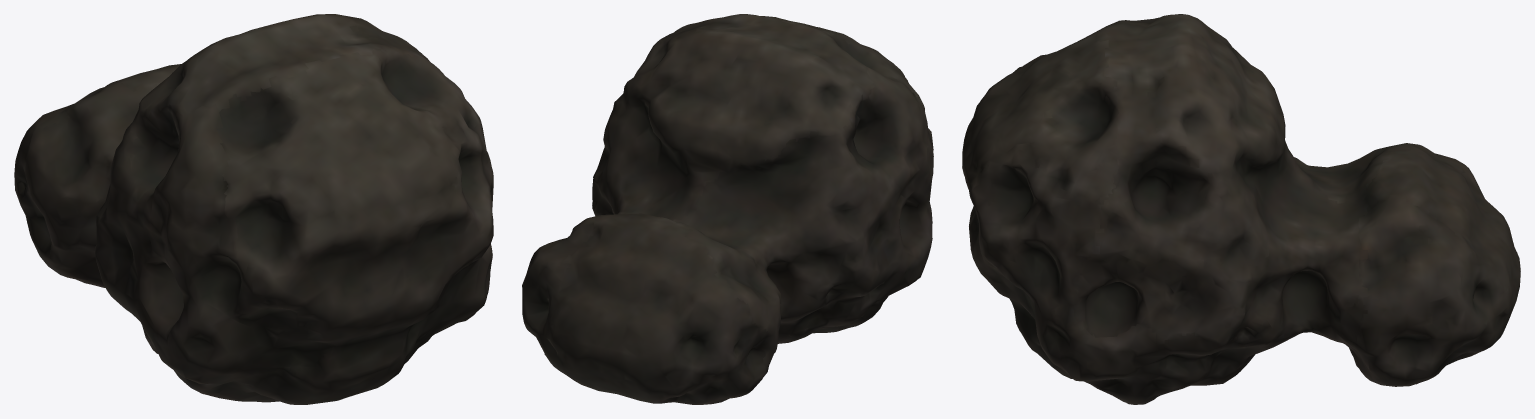
File: asteroid_rare_1_lod2.glb
The picture shows the model from 3 angles, left to right: view 1: azimuth 30°, elevation 25°; view 2: azimuth 150°, elevation 25°; view 3: azimuth 270°, elevation 25°; orthographic projection. The views are drawn at different scales.
Visible parts, largest first — view 1: model; view 2: model; view 3: model.
Boxes of the visible parts, <box> form: model: <box>14,14,493,404</box>; model: <box>522,14,933,404</box>; model: <box>962,14,1520,404</box>.
Bounding box in the file's own units: 1.22 × 1.27 × 1.89.
1 material, 1 textured.
